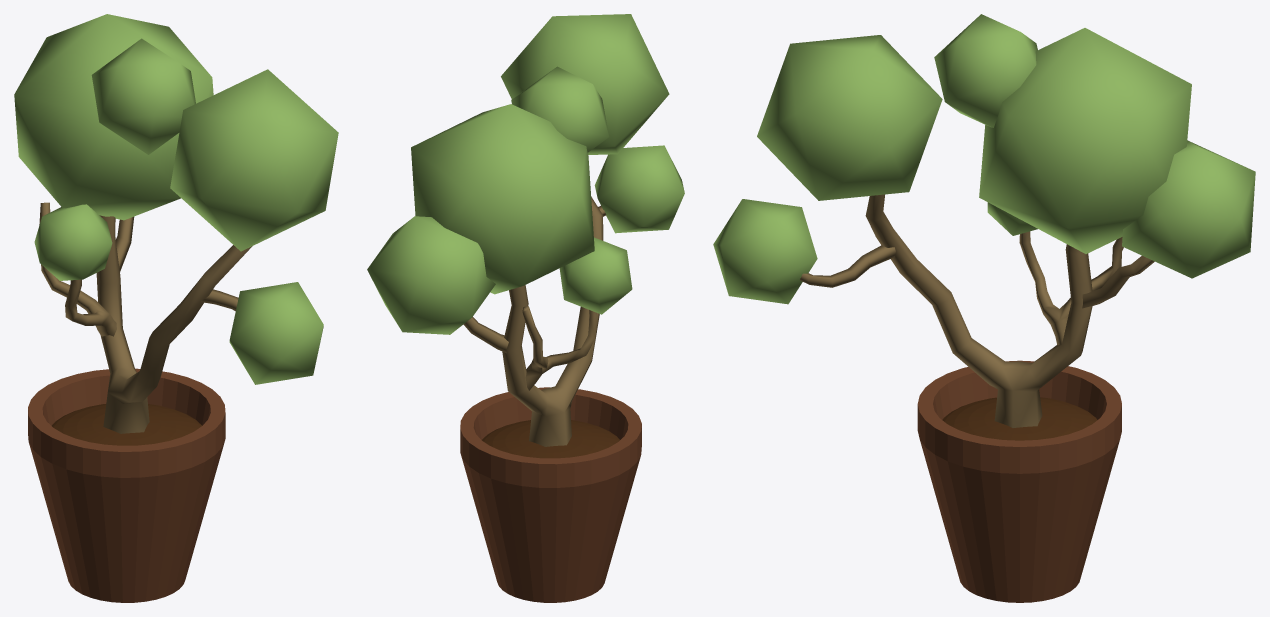
Rendered from Big Plant Pot.fbx.
The picture shows the model from 3 angles, left to right: view 1: azimuth 30°, elevation 25°; view 2: azimuth 150°, elevation 25°; view 3: azimuth 270°, elevation 25°; orthographic projection. The views are drawn at different scales.
Visible parts, largest first — view 1: Sphere.002; view 2: Sphere.002; view 3: Sphere.002.
Boxes of the visible parts, bbox=[...] form: Sphere.002: bbox=[14, 14, 338, 602]; Sphere.002: bbox=[367, 14, 684, 602]; Sphere.002: bbox=[713, 14, 1255, 602].
Size of the model in its own units: 239 by 606 by 531.
